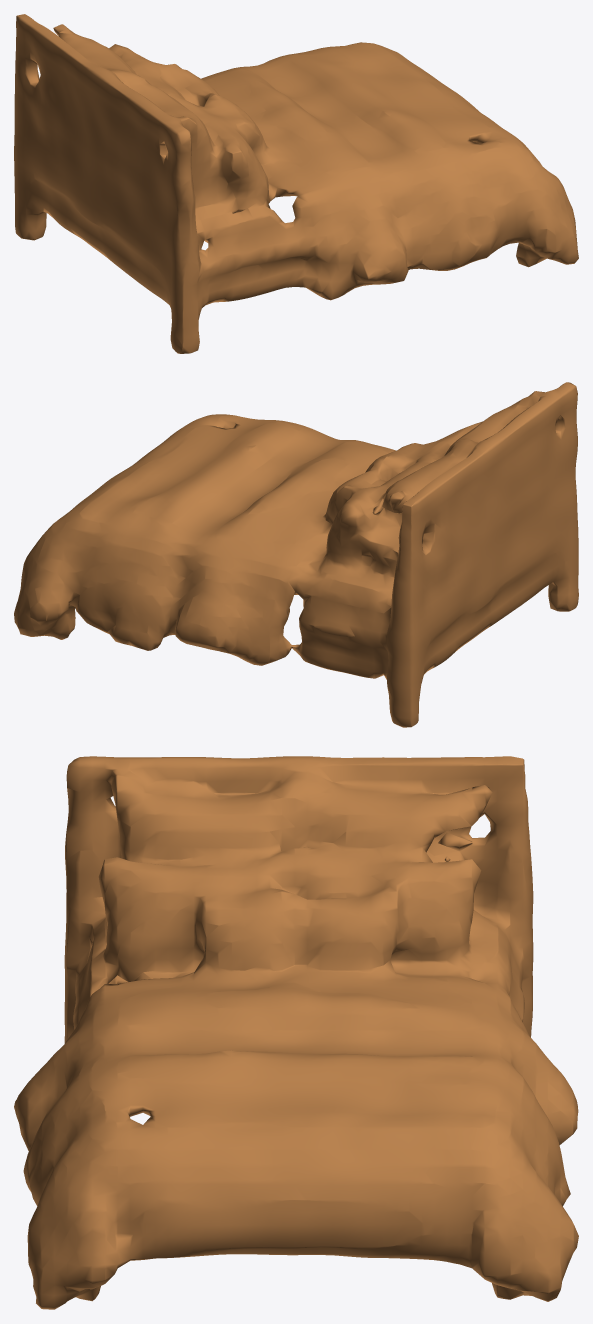
The model's file is bed_1_1.obj.
3 views of the same model, one above another, from view 1: azimuth 30°, elevation 25°; view 2: azimuth 150°, elevation 25°; view 3: azimuth 270°, elevation 25° (orthographic). The views are drawn at different scales.
Size of the model in its own units: 0.7912 by 0.4229 by 0.6974.
